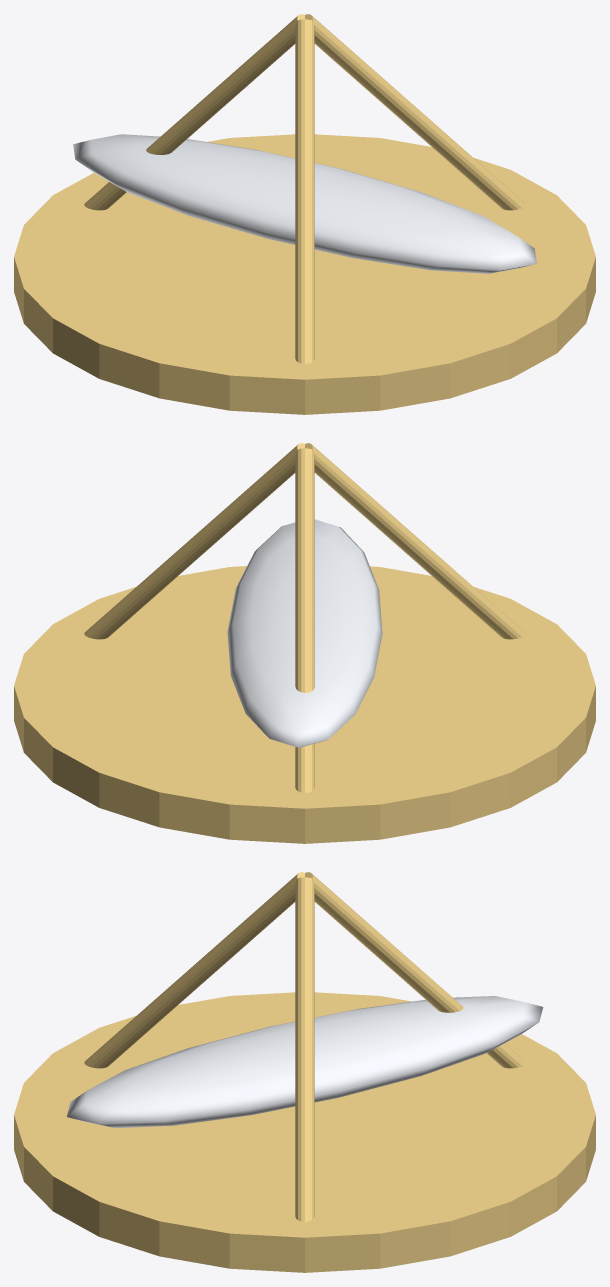
File: SM_Keeper_Ammit_Panm1.fbx
The picture shows the model from 3 angles, top to bottom: view 1: azimuth 30°, elevation 25°; view 2: azimuth 150°, elevation 25°; view 3: azimuth 270°, elevation 25°; orthographic projection.
Parts seen in each view (by area): view 1: SM_Keeper_Ammit_Panm1; view 2: SM_Keeper_Ammit_Panm1; view 3: SM_Keeper_Ammit_Panm1.
Boxes of the visible parts, x1=… form: SM_Keeper_Ammit_Panm1: x1=14, y1=14, x2=595, y2=414; SM_Keeper_Ammit_Panm1: x1=14, y1=443, x2=595, y2=843; SM_Keeper_Ammit_Panm1: x1=14, y1=872, x2=595, y2=1272.
Size of the model in its own units: 52.17 by 27.26 by 52.17.
